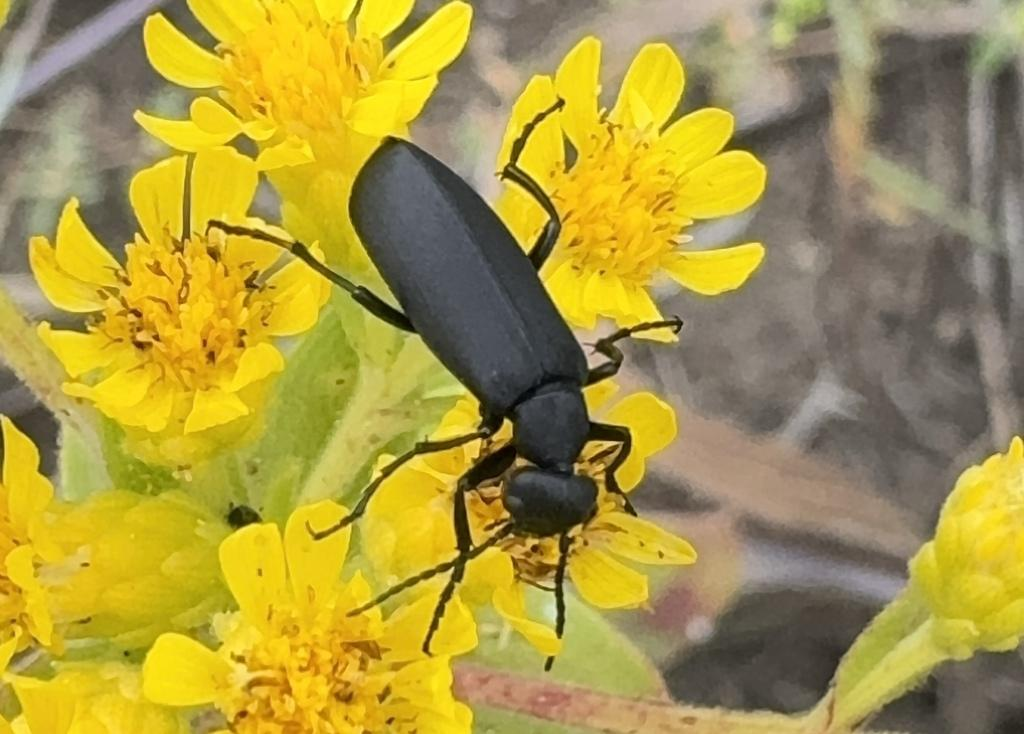blister_beetle: (146, 61, 757, 709)
